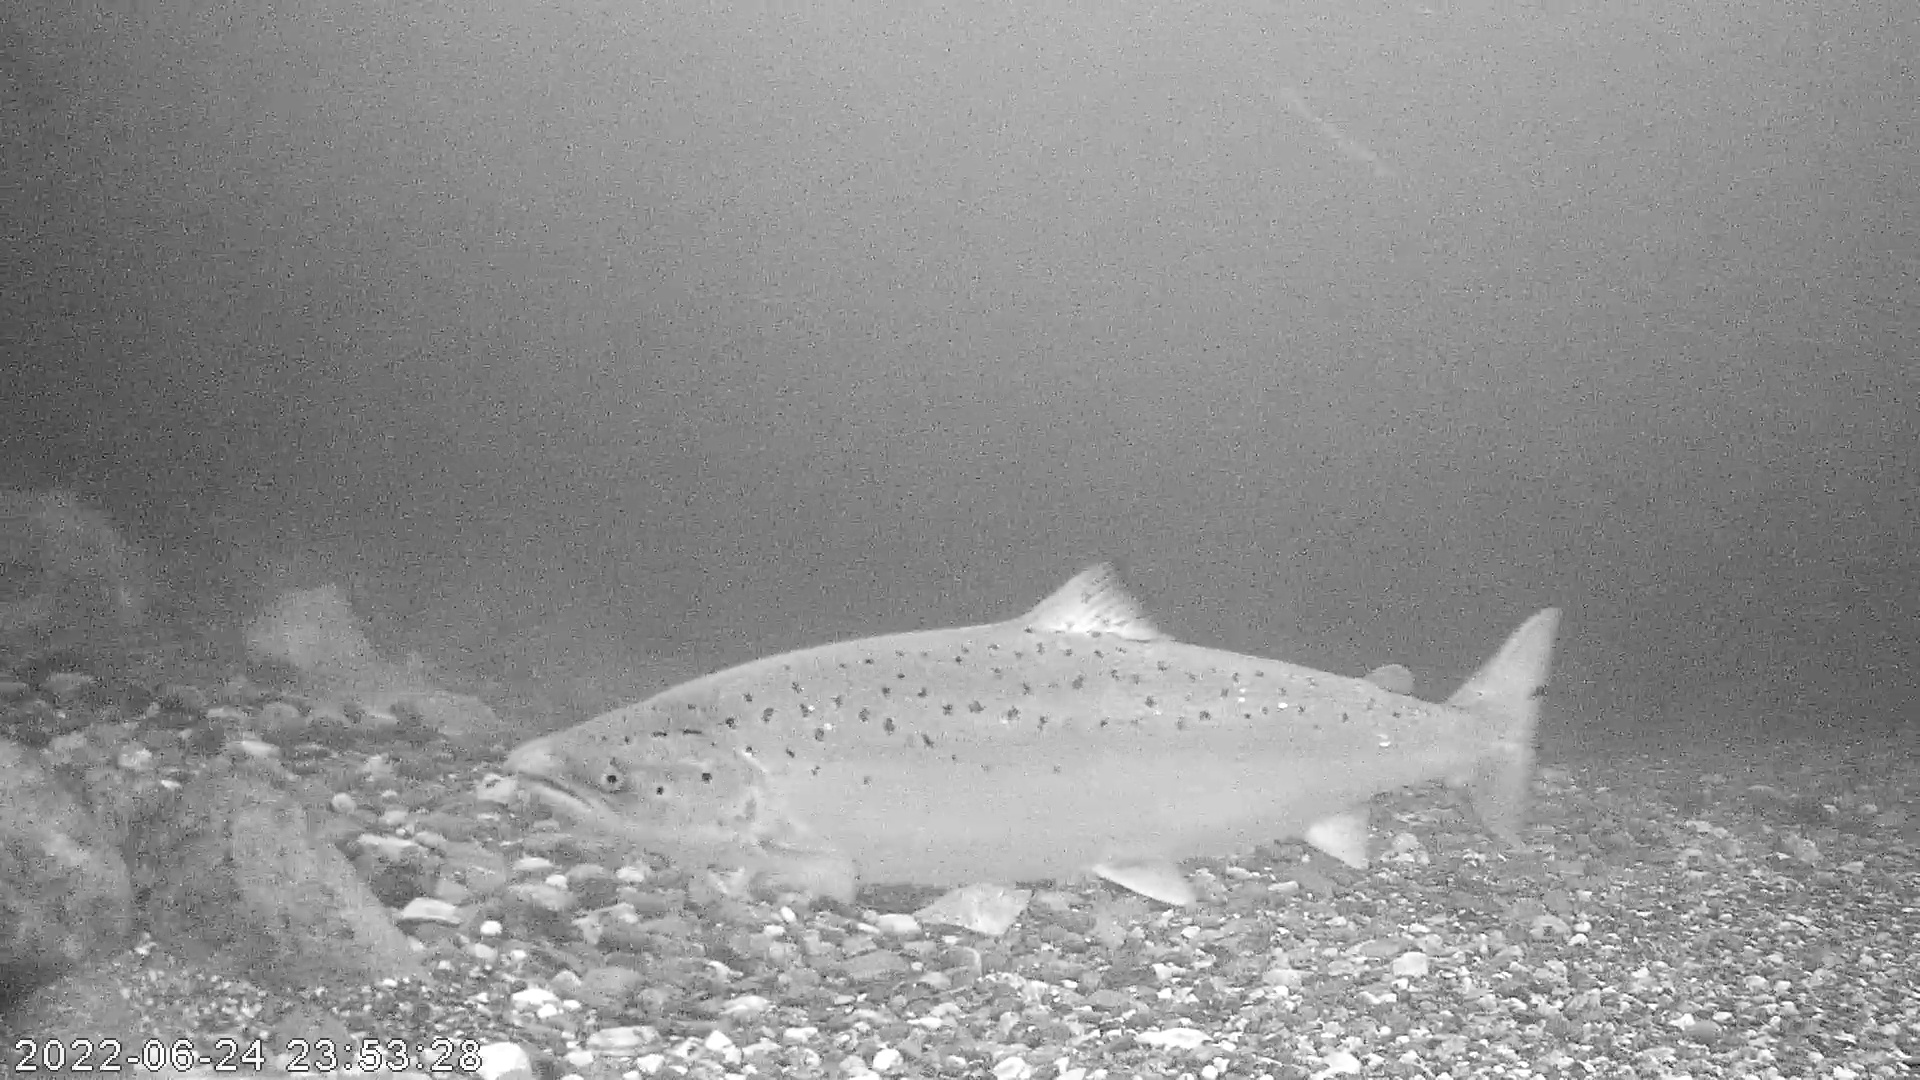salmon: (496, 553, 1563, 913)
